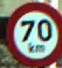Speed limit: (6, 1, 61, 63)
